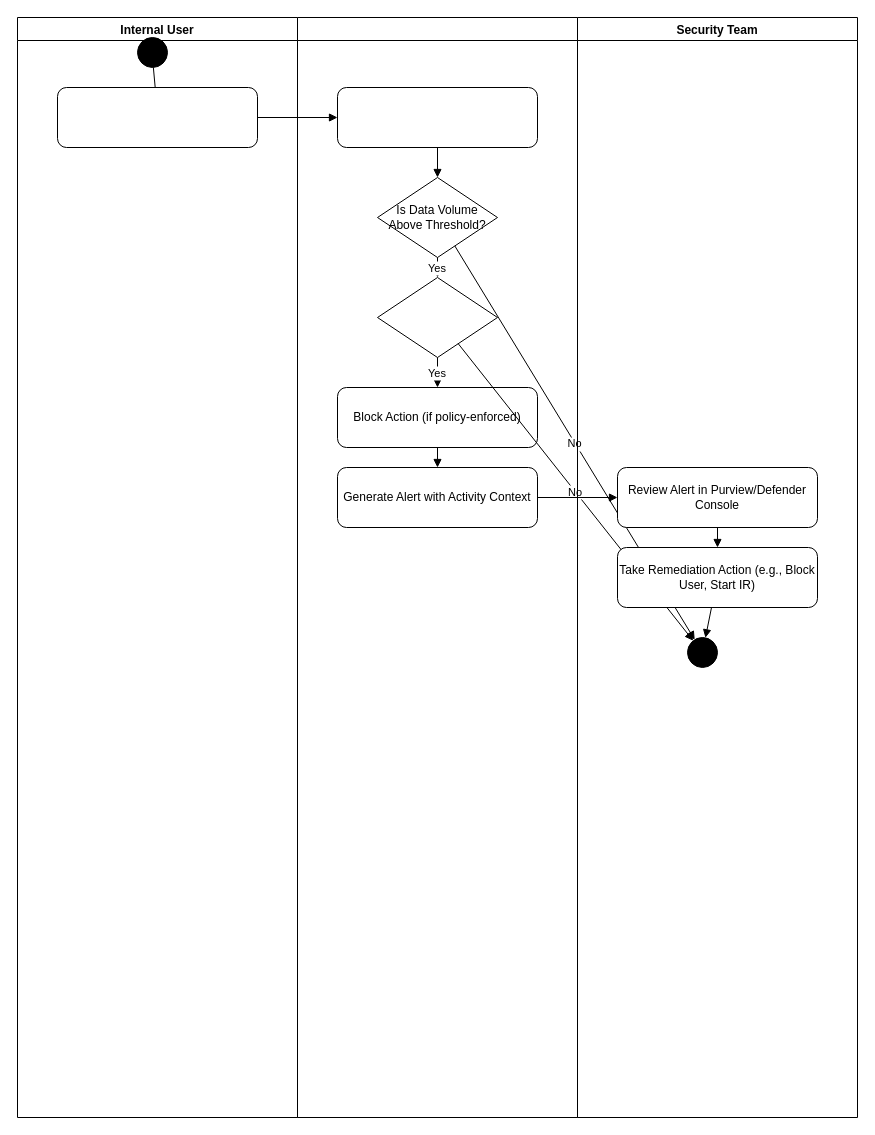
Image size: 875x1135. Some labels were removed from this diagram. The box of each missing label's shape, as (x1, y1, x2, y2) in pixels:
Is Data Classified as Confidential/Highly Sensitive?: (376, 276, 498, 358)
Microsoft Purview DLP System: (296, 16, 578, 1118)
Monitor File Activities and Data Volume: (336, 86, 538, 148)
User Attempts to Download/Copy Confidential or Highly Sensitive Data: (56, 86, 258, 148)
